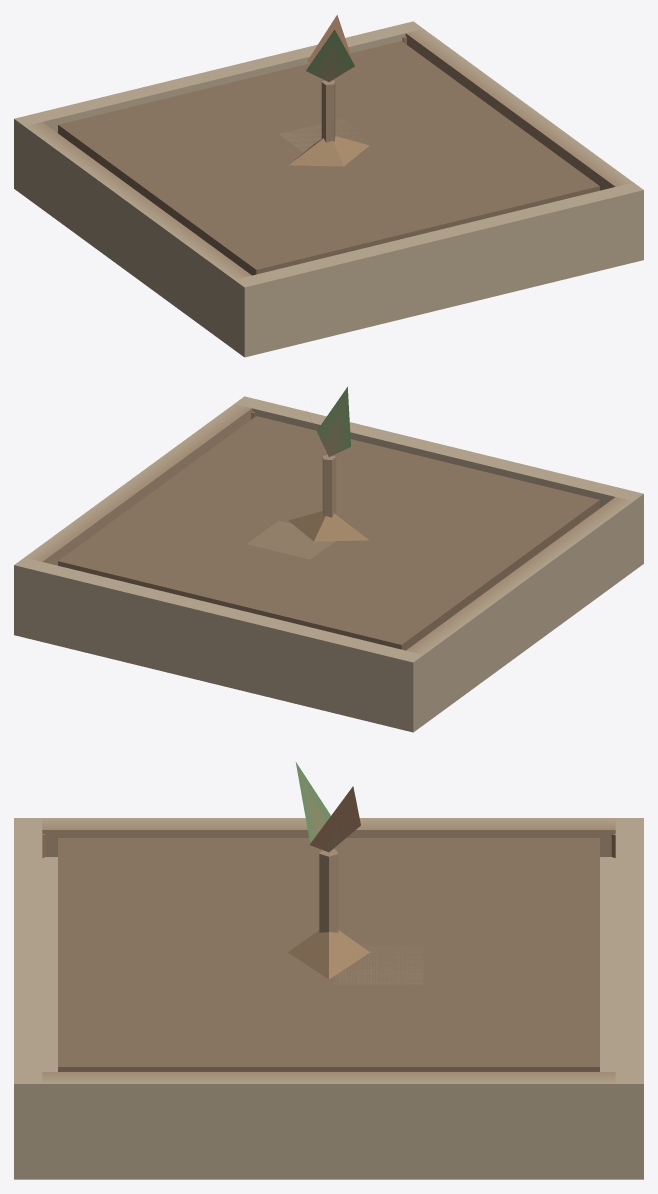
The model's file is cacao_siembra_near.glb.
3 views of the same model, one above another, from view 1: azimuth 30°, elevation 25°; view 2: azimuth 150°, elevation 25°; view 3: azimuth 270°, elevation 25° (orthographic). The views are drawn at different scales.
Parts seen in each view (by area): view 1: model; view 2: model; view 3: model.
Boxes of the visible parts, x1,y1,x2,y2 form: model: [14, 15, 643, 357]; model: [14, 387, 643, 732]; model: [14, 762, 643, 1179].
Size of the model in its own units: 1 by 0.4922 by 1.
